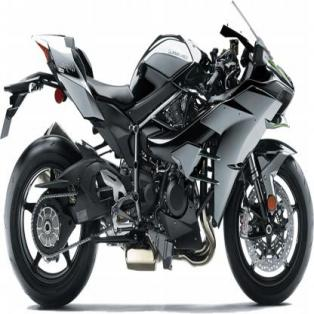Motocicleta: (1, 17, 313, 306)
